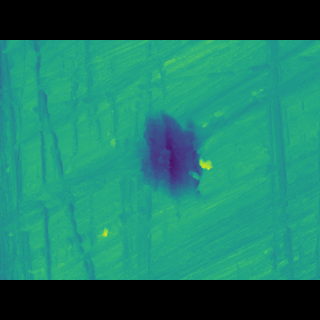Loch: (1, 71, 320, 131), (135, 118, 217, 196), (264, 69, 298, 250)
